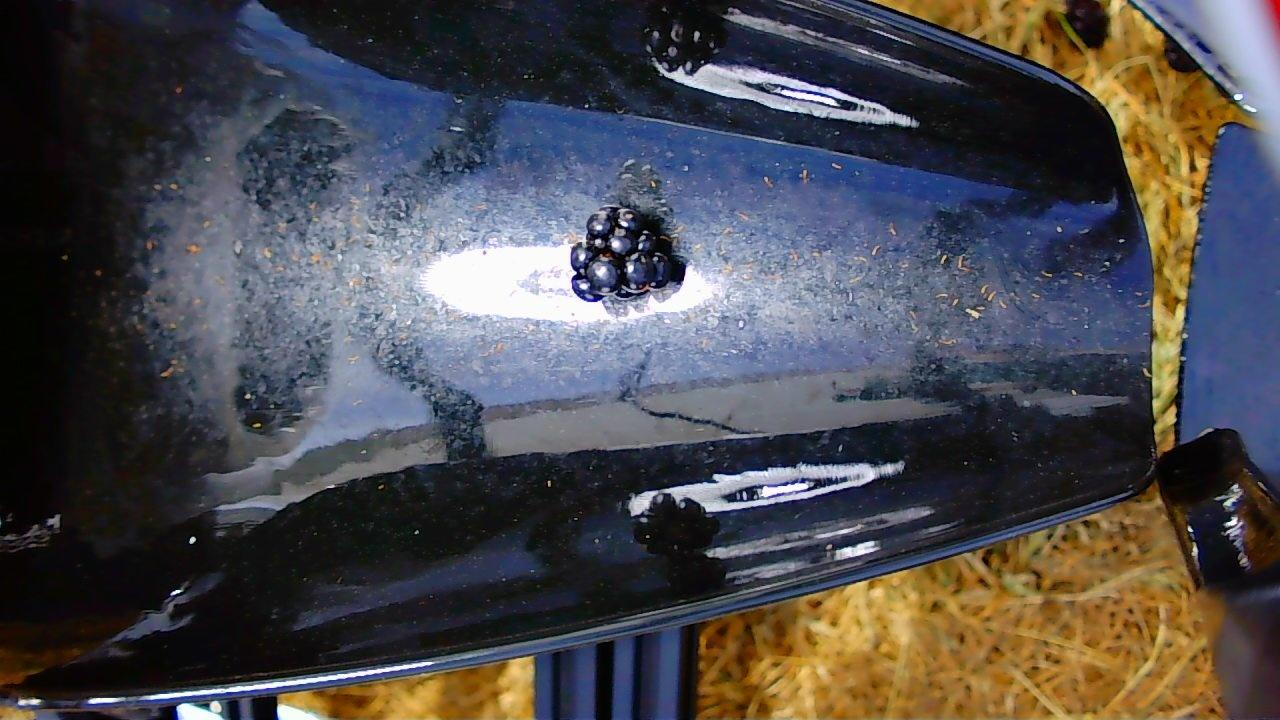berry: (571, 207, 673, 300)
